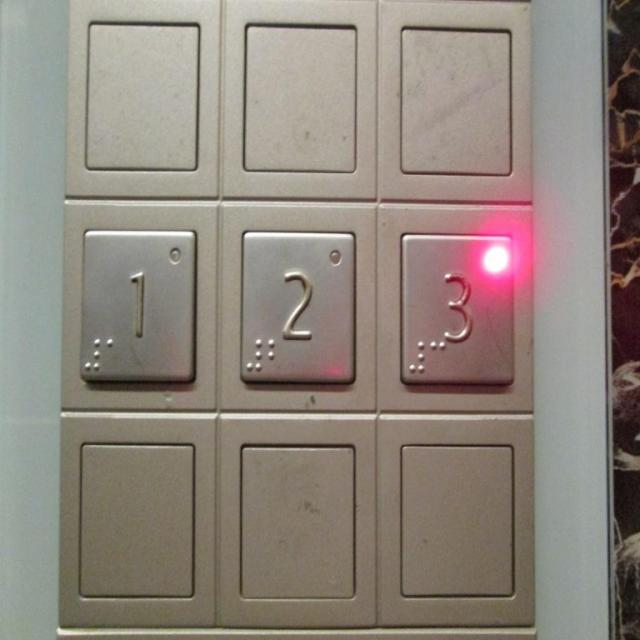1: (76, 224, 200, 389)
2: (235, 224, 358, 389)
3: (394, 226, 518, 392)
empty: (80, 13, 204, 178), (235, 438, 357, 605), (395, 437, 517, 603), (75, 435, 196, 602), (238, 14, 360, 179), (395, 19, 514, 179)
